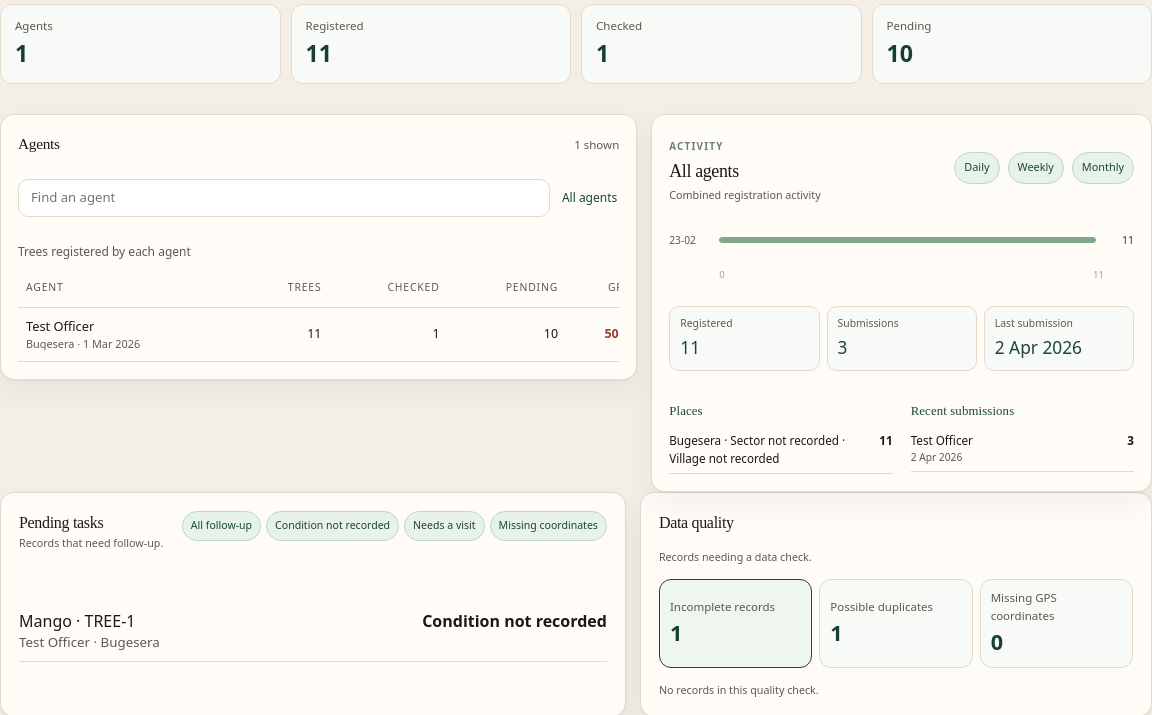
agent list › switches registration periods and opens a quality list
The image size is (1152, 715).
Click the button "Daily" at coordinates (977, 168), box [954,152,1000,184]
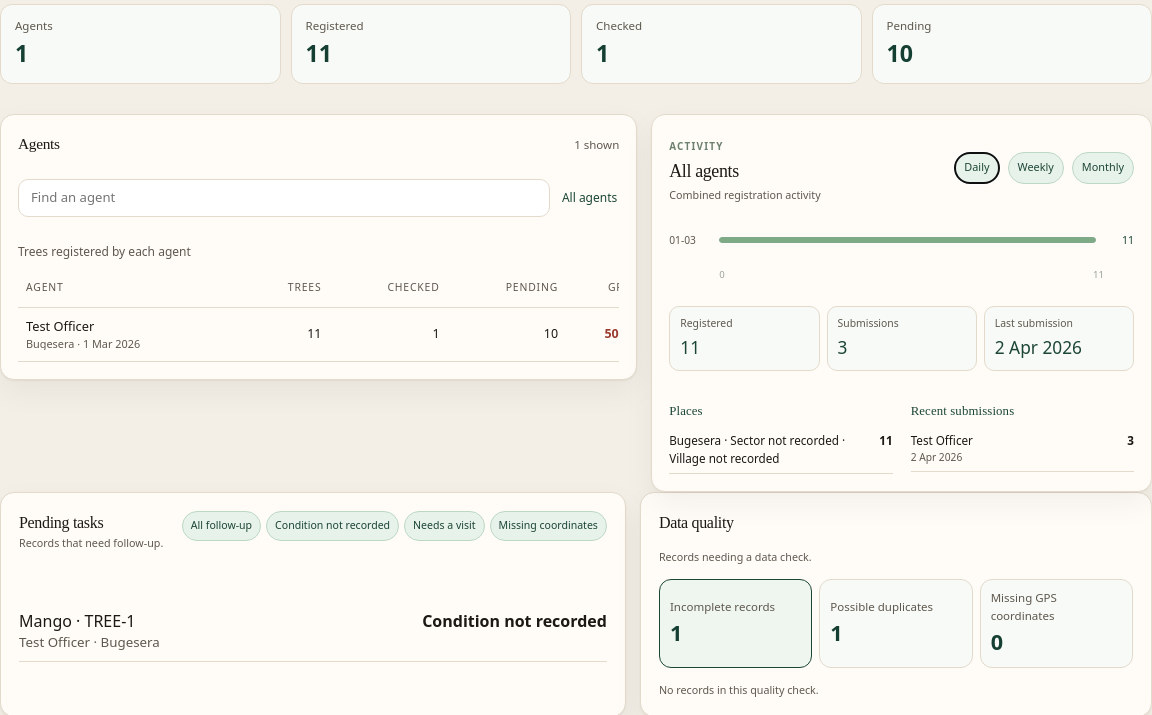
Check: the text "01-03" is shown, box [669,233,696,247]
Click the button "Possible duplicates 1" at coordinates (896, 624), box [819,579,973,668]
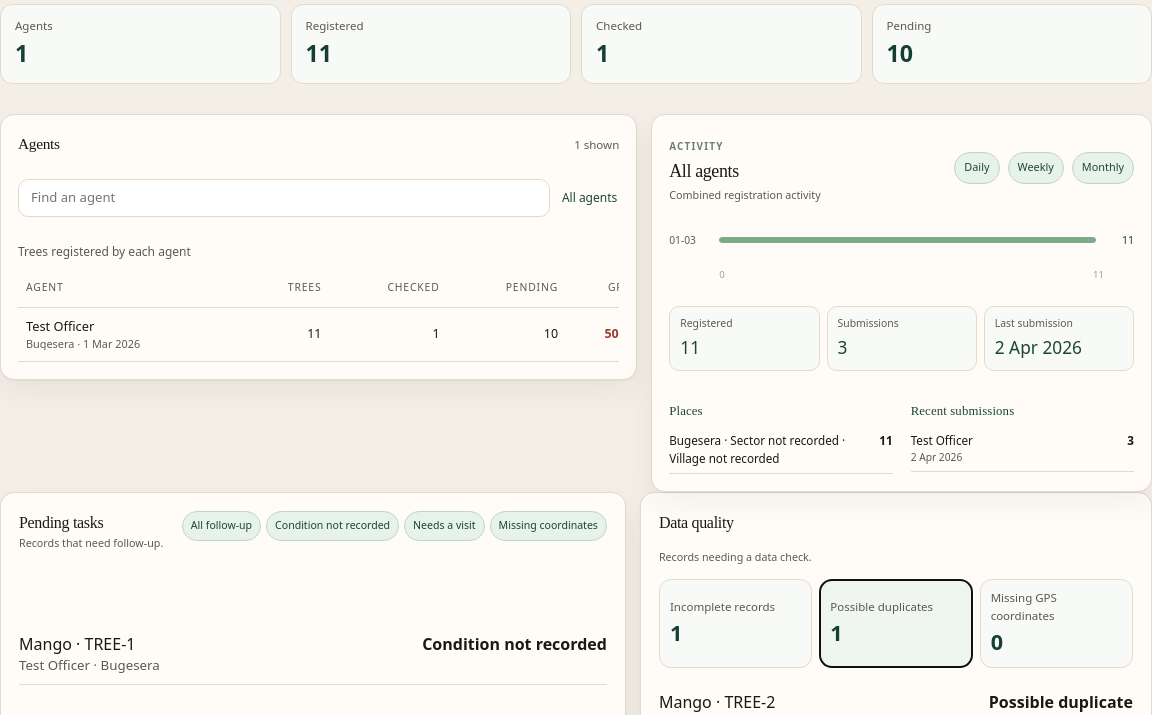
Click the button "Test Officer Bugesera · 1 Mar 2026" at coordinates (131, 334), box [26,319,235,350]
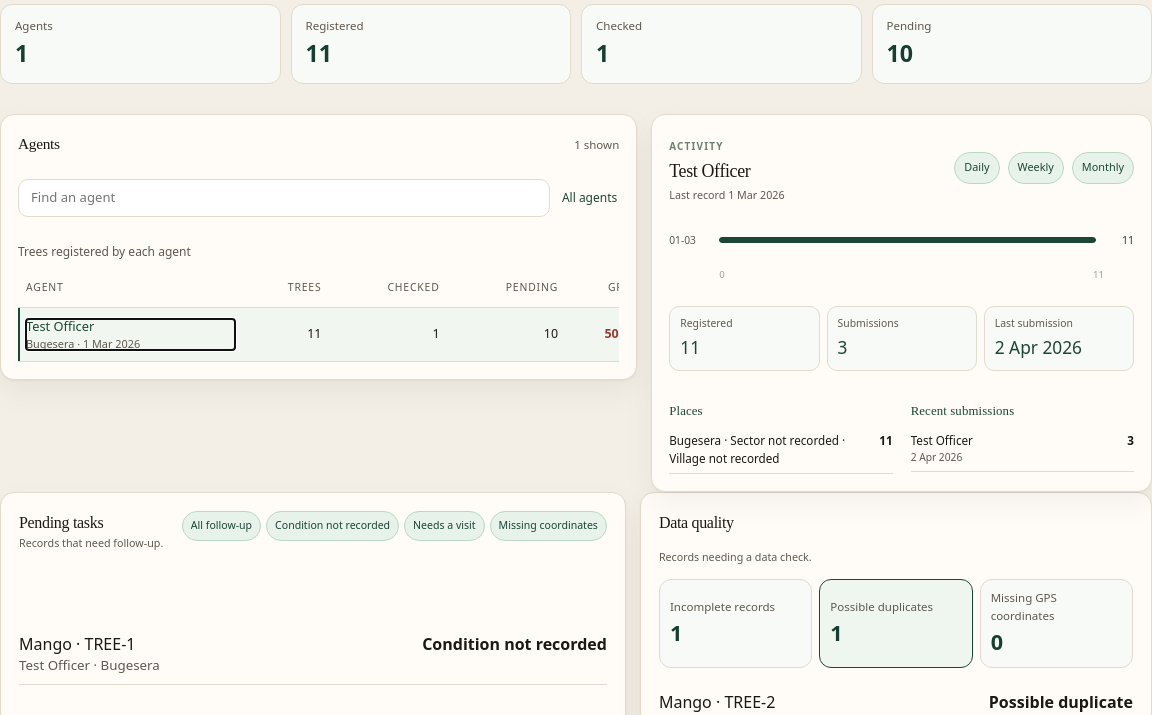
Check: the heading "Test Officer" is shown, box [669,161,750,181]
